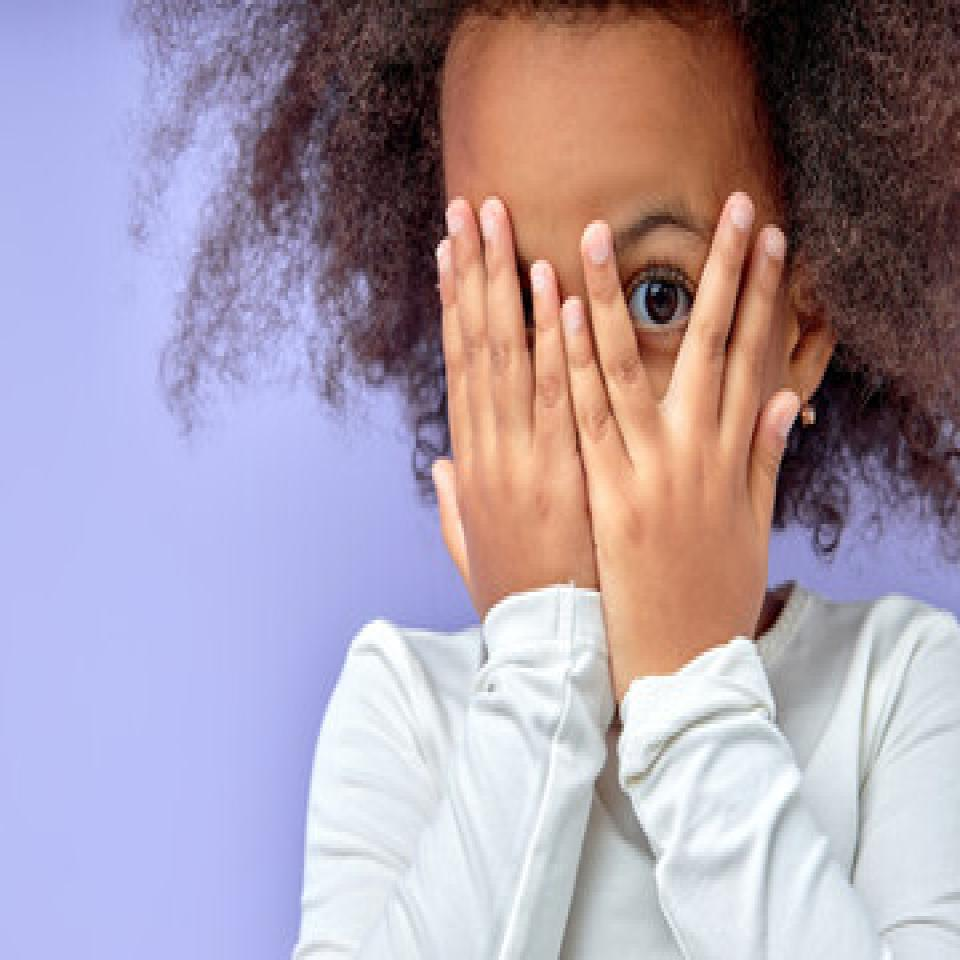Scared: (434, 1, 794, 595)
